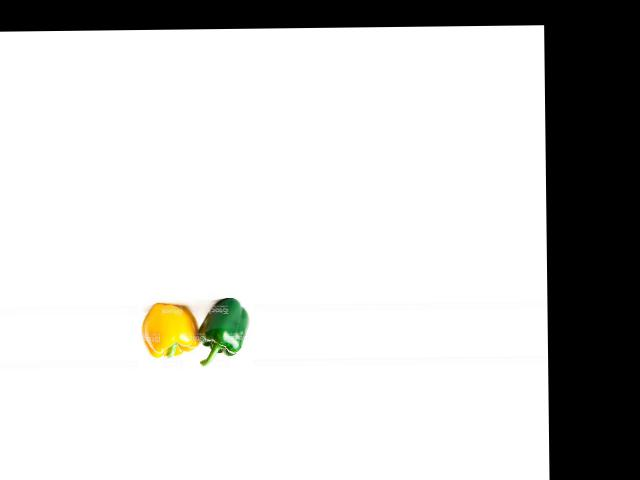bell_pepper: (198, 289, 253, 360)
